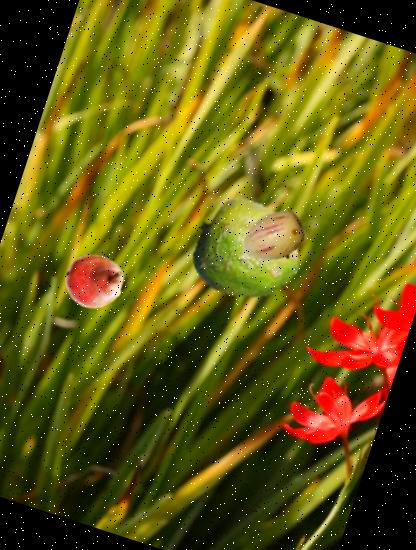Limes: (179, 185, 314, 320)
Pear: (58, 246, 130, 318)
Pepino: (234, 198, 316, 278)
